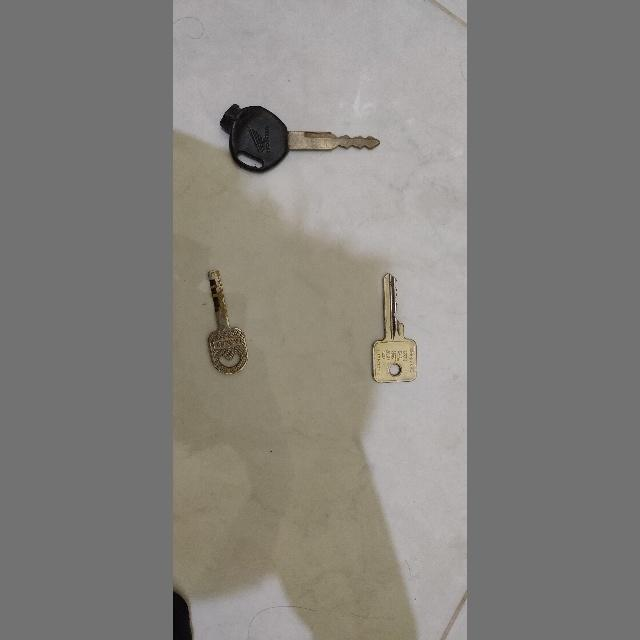Keys: (215, 98, 383, 178), (364, 267, 424, 393), (198, 260, 250, 376)
